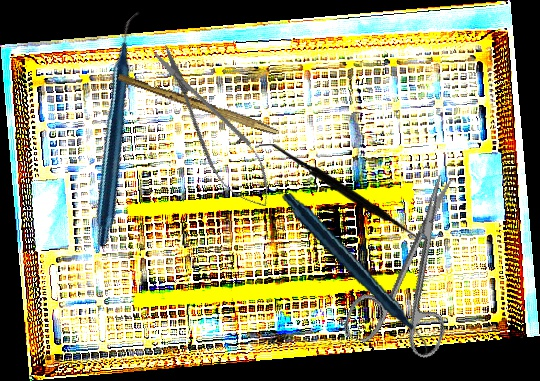Handpiece: (2, 9, 238, 249), (281, 178, 430, 371)
Iris Scissors: (340, 161, 495, 368)
Micro Scissor: (139, 35, 286, 220)
Scalpel Handle: (116, 72, 280, 136)
Spatula Surgical: (255, 141, 435, 245)
